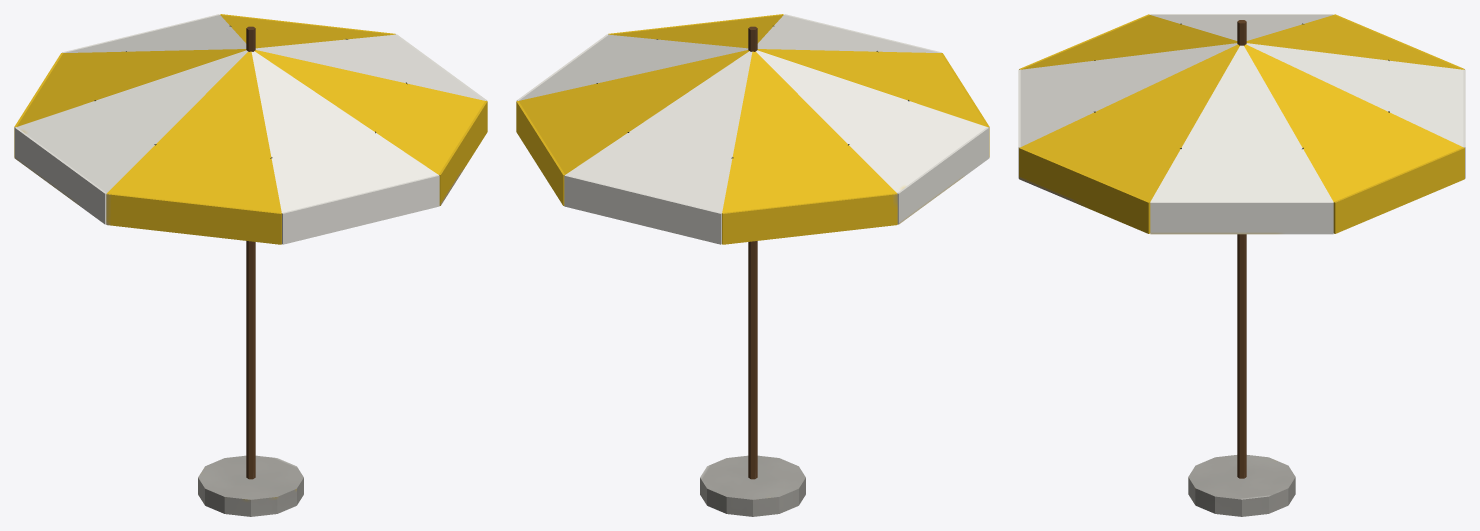
The model's file is slunecnik_3ba4e905.glb.
3 views of the same model, side by side, from view 1: azimuth 30°, elevation 25°; view 2: azimuth 150°, elevation 25°; view 3: azimuth 270°, elevation 25° (orthographic).
Visible parts, largest first — view 1: dum; view 2: dum; view 3: dum.
Boxes of the visible parts, x1,y1,x2,y2 form: dum: (14, 14, 487, 516); dum: (516, 14, 989, 516); dum: (1018, 14, 1465, 516).
Size of the model in its own units: 2.33 by 2.71 by 2.33.
1 material, 1 textured.
